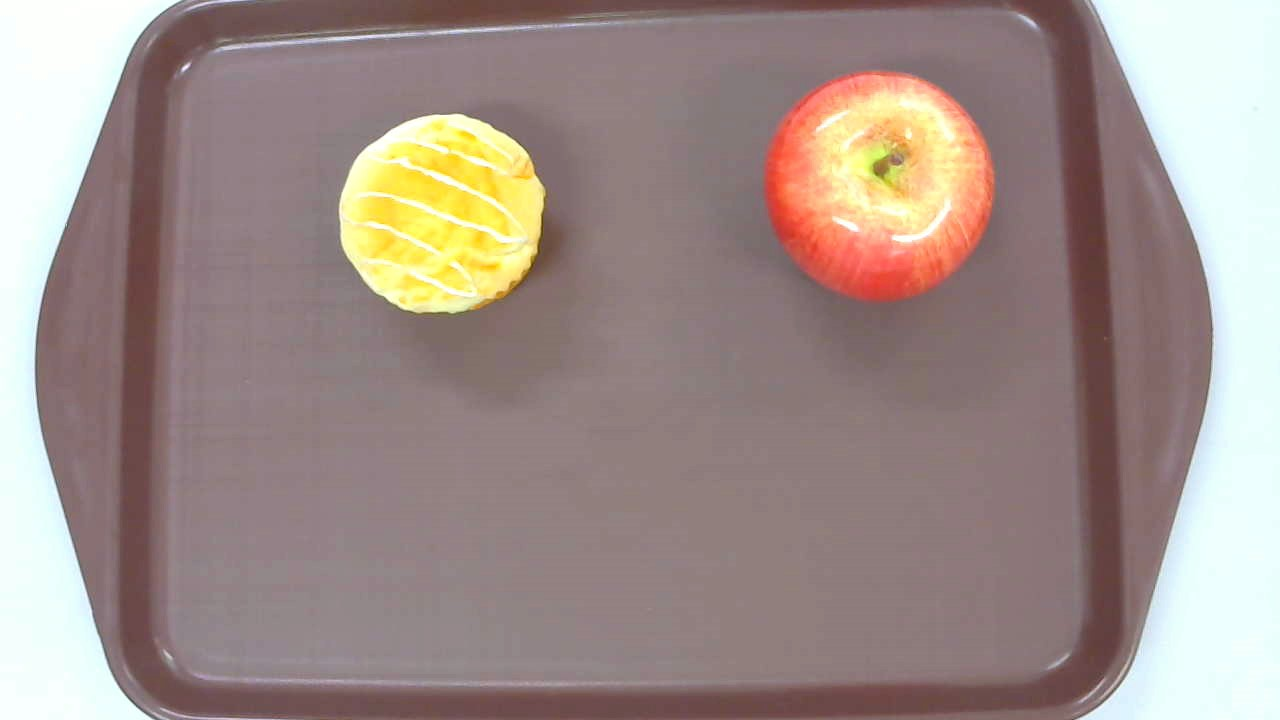cupcake: (337, 113, 546, 316)
red apple: (764, 69, 994, 304)
